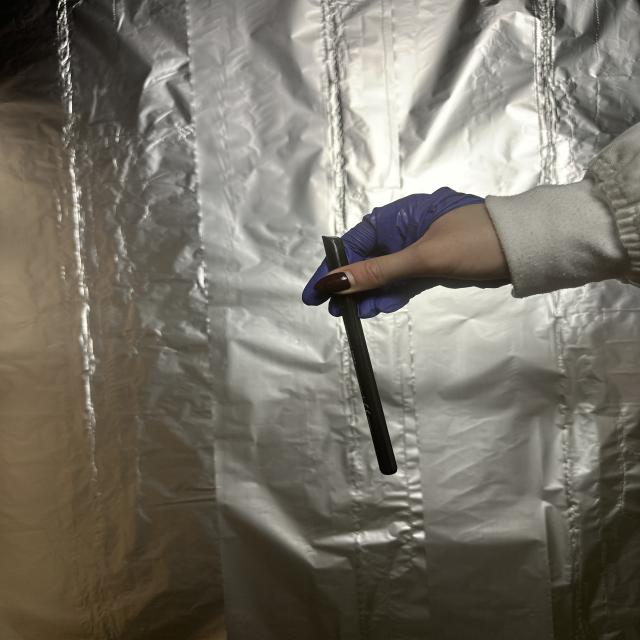glove_partial: (296, 183, 518, 329)
